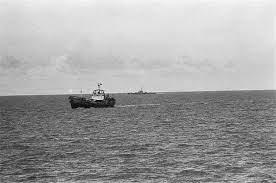MIL_Ship: (67, 80, 116, 110), (126, 86, 158, 95)
